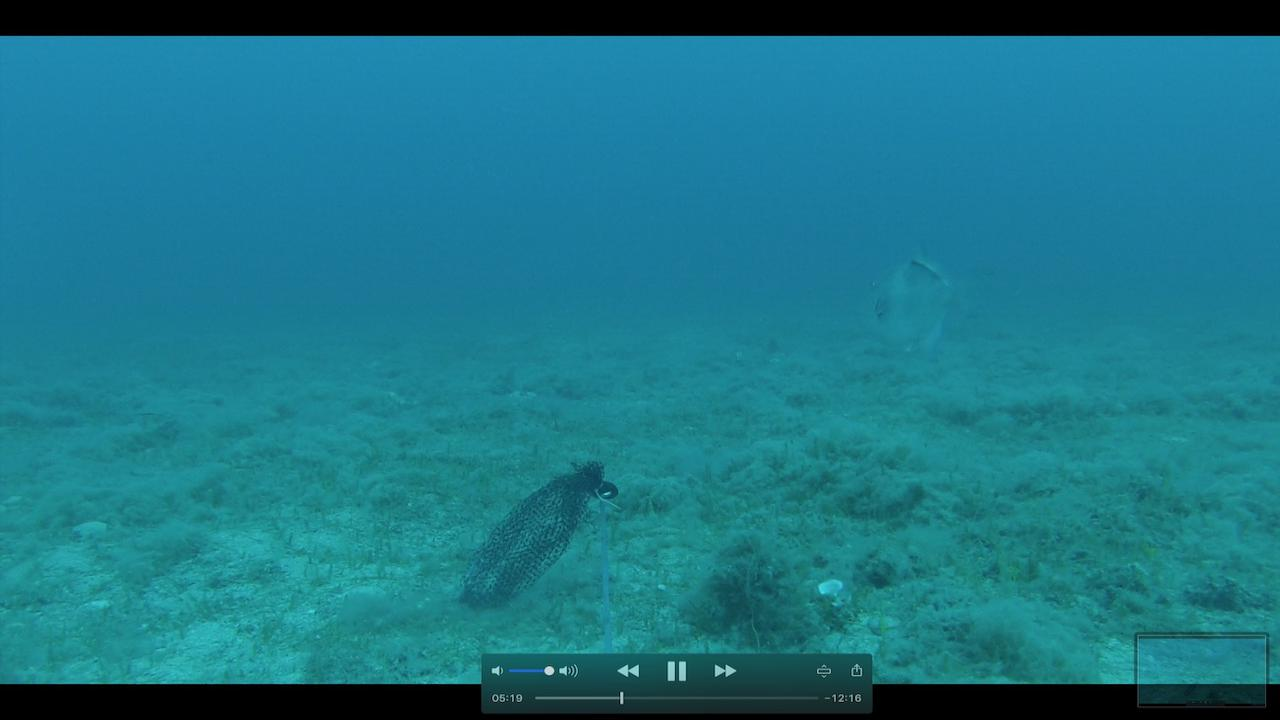balistes: (852, 235, 999, 367)
